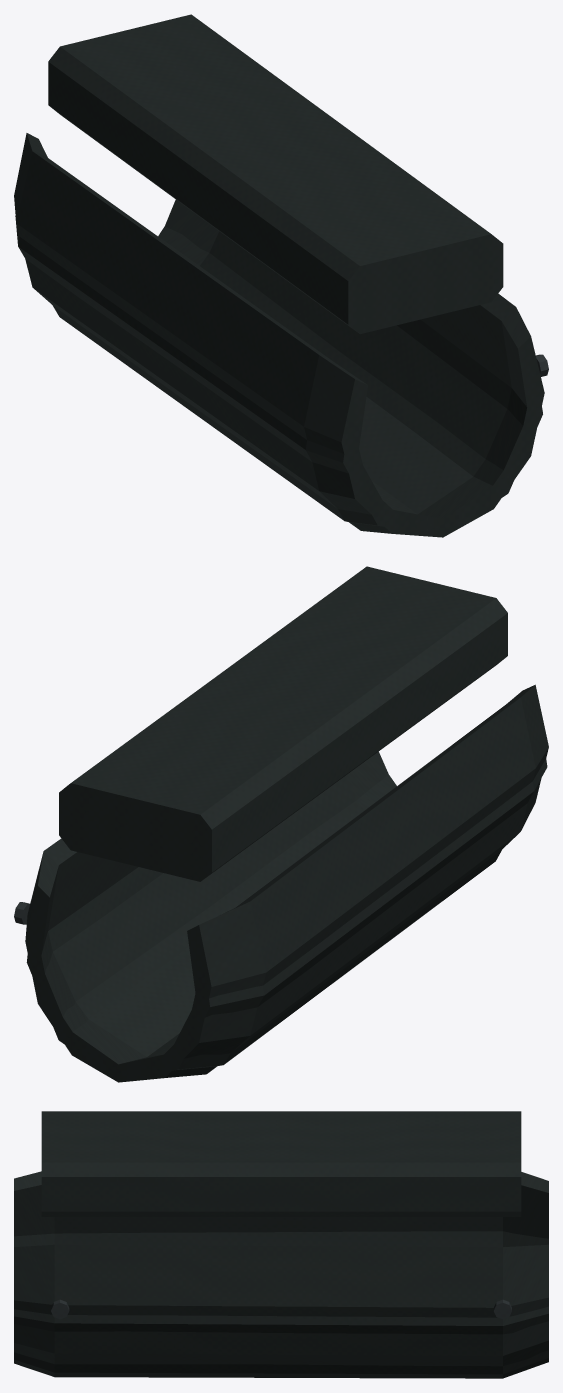
The model's file is saiga_guard.glb.
3 renders of one model, top to bottom at view 1: azimuth 30°, elevation 25°; view 2: azimuth 150°, elevation 25°; view 3: azimuth 270°, elevation 25°, orthographic. The views are drawn at different scales.
Visible parts, largest first — view 1: handguard__saiga_guard_LOD0_RAID_Secondary_Original_polymer, handguard__saiga_guard_LOD1_RAID_Secondary_Original_polymer; view 2: handguard__saiga_guard_LOD0_RAID_Secondary_Original_polymer, handguard__saiga_guard_LOD1_RAID_Secondary_Original_polymer; view 3: handguard__saiga_guard_LOD0_RAID_Secondary_Original_polymer, handguard__saiga_guard_LOD1_RAID_Secondary_Original_polymer, handguard__saiga_guard_LOD0_RAID_Secondary_Original_steel.
Part boxes in pixels (box(x1,y1,x2,y2)): handguard__saiga_guard_LOD0_RAID_Secondary_Original_polymer: box(14, 14, 544, 537); handguard__saiga_guard_LOD1_RAID_Secondary_Original_polymer: box(15, 199, 542, 537); handguard__saiga_guard_LOD0_RAID_Secondary_Original_polymer: box(25, 566, 548, 1082); handguard__saiga_guard_LOD1_RAID_Secondary_Original_polymer: box(26, 751, 547, 1081); handguard__saiga_guard_LOD0_RAID_Secondary_Original_polymer: box(14, 1111, 548, 1378); handguard__saiga_guard_LOD1_RAID_Secondary_Original_polymer: box(14, 1185, 548, 1374); handguard__saiga_guard_LOD0_RAID_Secondary_Original_steel: box(51, 1299, 511, 1319).
Bounding box in the file's own units: 0.125 × 0.1391 × 0.29.
2 materials, 2 textured.
